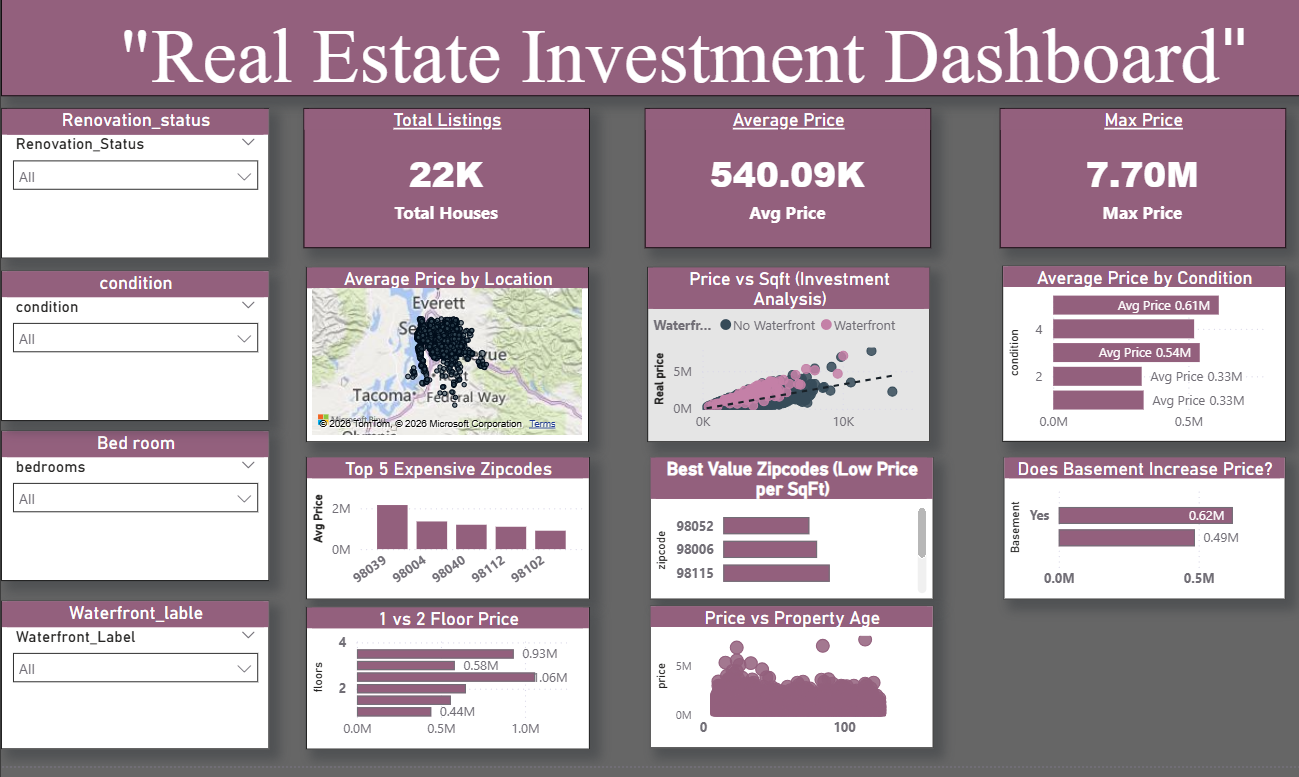

What the dashboard file says about the page in this screenshot:
{"tool":"powerbi","page":{"name":"\"King County Real Estate Dashboard\"","canvas":[1280,720],"ordinal":0},"visuals":[{"type":"textbox","box":[0,0,1280,95.8],"z":0},{"type":"card","title":"Average Price","fields":{"Values":["kc_house_data.Avg Price"]},"box":[598.3,107,266.2,130.6],"z":1000},{"type":"card","title":"Total Listings","fields":{"Values":["kc_house_data.Total Houses"]},"box":[281.1,107,266.2,130.6],"z":2000},{"type":"card","title":"Max Price","fields":{"Values":["kc_house_data.Max Price"]},"box":[929.2,107,266.2,130.6],"z":3000},{"type":"map","title":"Average Price by Location","fields":{"Y":["kc_house_data.Latitude"],"X":["kc_house_data.longitude"],"Size":["kc_house_data.Avg Price"]},"box":[284,255.2,263.5,163.3],"z":4000},{"type":"scatterChart","title":"Price vs Sqft (Investment Analysis)","fields":{"X":["Sum(kc_house_data.Sqft Living)"],"Series":["kc_house_data.Waterfront_Label"],"Category":["kc_house_data.id"],"Y":["Sum(kc_house_data.price)"]},"box":[601,255.2,263.5,163.3],"z":5000},{"type":"clusteredBarChart","title":"Average Price by Condition","fields":{"Category":["kc_house_data.condition"],"Y":["kc_house_data.Avg Price"]},"box":[931.7,253.8,263.7,164.2],"z":6000},{"type":"slicer","title":"Renovation_status","fields":{"Values":["kc_house_data.Renovation_Status"]},"box":[0,107,249.7,140],"z":7000},{"type":"slicer","title":"Bed room","fields":{"Values":["kc_house_data.bedrooms"]},"box":[0,407.5,249.7,140],"z":8000},{"type":"slicer","title":"condition","fields":{"Values":["kc_house_data.condition"]},"box":[0,258,249.7,140],"z":9000},{"type":"slicer","title":"Waterfront_lable","fields":{"Values":["kc_house_data.Waterfront_Label"]},"box":[0,565.4,249.7,138.6],"z":10000},{"type":"clusteredColumnChart","title":"Top 5 Expensive Zipcodes","fields":{"Category":["kc_house_data.zipcode"],"Y":["kc_house_data.Avg Price"]},"box":[283.6,431.7,263.7,133.1],"z":11000},{"type":"clusteredBarChart","title":"Best Value Zipcodes (Low Price per SqFt)","fields":{"Y":["kc_house_data.Price per SqFt"],"Category":["kc_house_data.zipcode"]},"box":[603.3,431.7,263.7,133.1],"z":12000},{"type":"clusteredBarChart","title":"Does Basement Increase Price?","fields":{"Y":["Avg(kc_house_data.price)"],"Category":["kc_house_data.Basement"]},"box":[933,431.7,262.5,133.1],"z":13000},{"type":"clusteredBarChart","title":"1 vs 2 Floor Price","fields":{"Category":["kc_house_data.floors"],"Y":["Avg(kc_house_data.price)"]},"box":[283.6,571,263.7,133.1],"z":14000},{"type":"scatterChart","title":"Price vs Property Age","fields":{"X":["kc_house_data.Property_Age"],"Y":["kc_house_data.price"]},"box":[603.3,569.7,263.7,133.1],"z":15000}]}

Visuals, with their boxes on the page's 1280x720 design canvas (x1, y1, x2, y2). These are canvas units, not pixel positions in the 1299x777 screenshot, which may show the page scaled, cropped or inside an application window:
textbox: x1=0, y1=0, x2=1280, y2=96
"Average Price" card: x1=598, y1=107, x2=864, y2=238
"Total Listings" card: x1=281, y1=107, x2=547, y2=238
"Max Price" card: x1=929, y1=107, x2=1195, y2=238
"Average Price by Location" map: x1=284, y1=255, x2=548, y2=418
"Price vs Sqft (Investment Analysis)" scatterChart: x1=601, y1=255, x2=864, y2=418
"Average Price by Condition" clusteredBarChart: x1=932, y1=254, x2=1195, y2=418
"Renovation_status" slicer: x1=0, y1=107, x2=250, y2=247
"Bed room" slicer: x1=0, y1=408, x2=250, y2=548
"condition" slicer: x1=0, y1=258, x2=250, y2=398
"Waterfront_lable" slicer: x1=0, y1=565, x2=250, y2=704
"Top 5 Expensive Zipcodes" clusteredColumnChart: x1=284, y1=432, x2=547, y2=565
"Best Value Zipcodes (Low Price per SqFt)" clusteredBarChart: x1=603, y1=432, x2=867, y2=565
"Does Basement Increase Price?" clusteredBarChart: x1=933, y1=432, x2=1196, y2=565
"1 vs 2 Floor Price" clusteredBarChart: x1=284, y1=571, x2=547, y2=704
"Price vs Property Age" scatterChart: x1=603, y1=570, x2=867, y2=703
